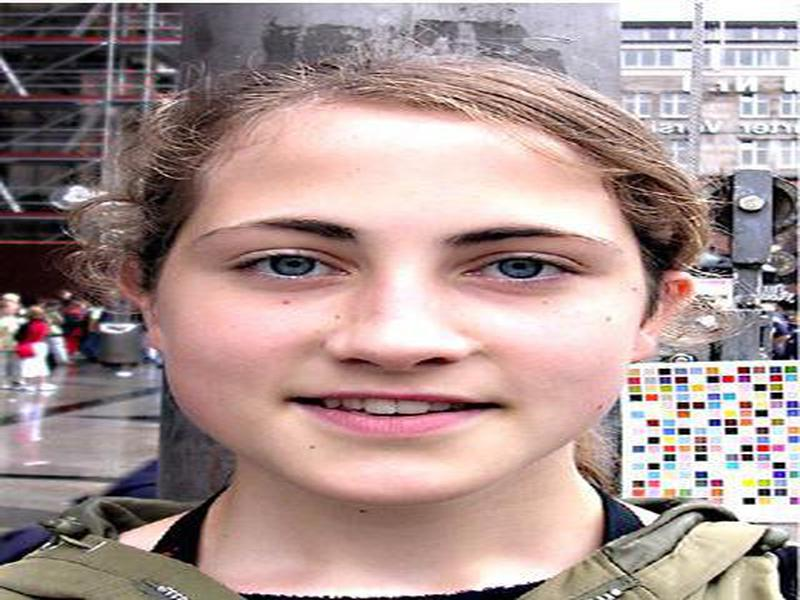without_mask: (157, 146, 642, 501)
